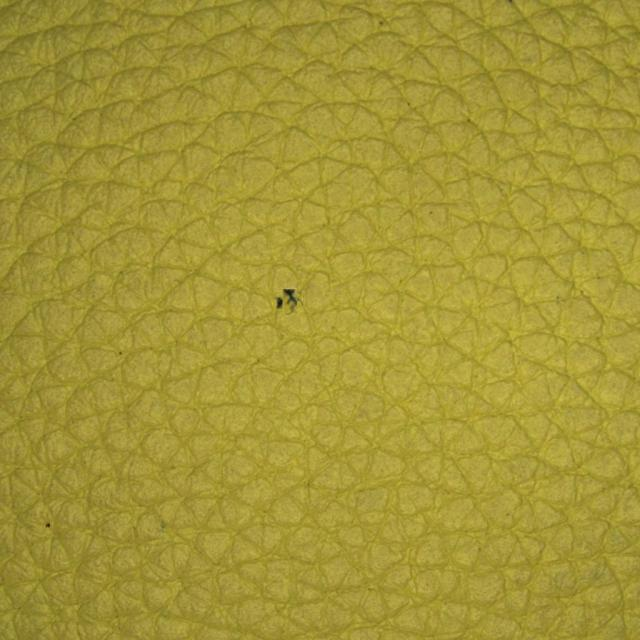Hole: (204, 227, 377, 383)
pinhole: (12, 454, 100, 590)
